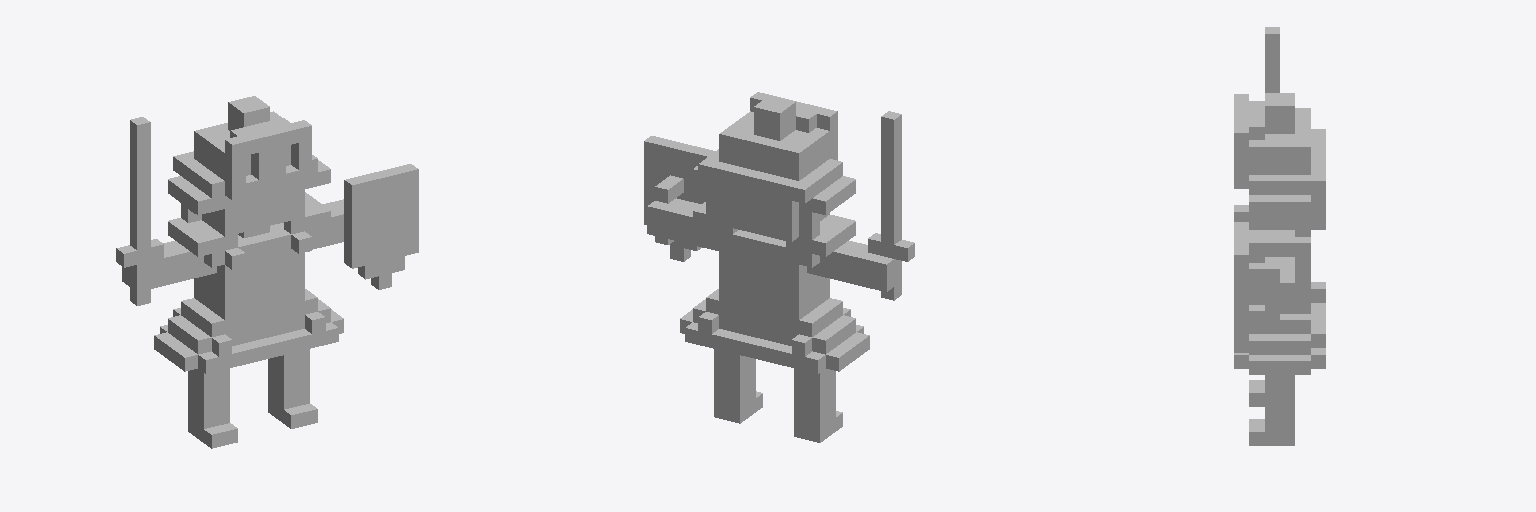
Rendered from Knight.obj.
3 renders of one model, left to right at view 1: azimuth 30°, elevation 25°; view 2: azimuth 150°, elevation 25°; view 3: azimuth 270°, elevation 25°, orthographic.
Visible parts, largest first — view 1: object 1; view 2: object 1; view 3: object 1.
Part boxes in pixels (left/top/right/bottom): object 1: left=116, top=96, right=418, bottom=448; object 1: left=644, top=92, right=914, bottom=442; object 1: left=1234, top=27, right=1325, bottom=445.
Size of the model in its own units: 2.1 by 2.4 by 0.6.